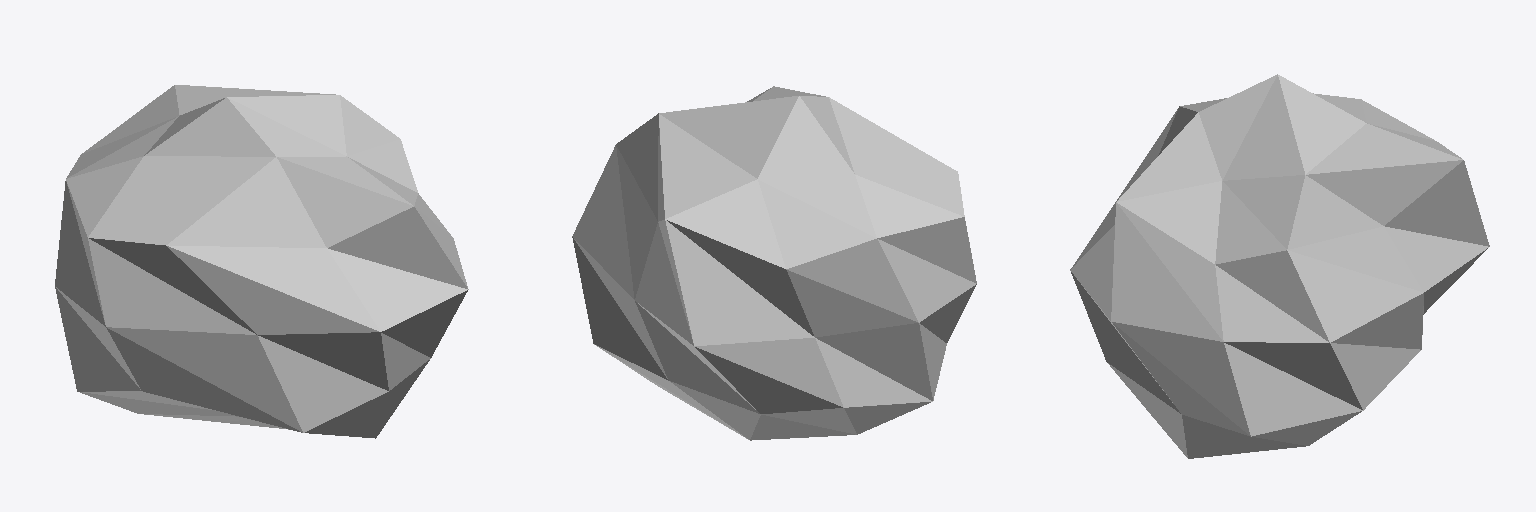
The model's file is rock1.obj.
3 renders of one model, left to right at view 1: azimuth 30°, elevation 25°; view 2: azimuth 150°, elevation 25°; view 3: azimuth 270°, elevation 25°, orthographic.
Visible parts, largest first — view 1: Icosphere; view 2: Icosphere; view 3: Icosphere.
Boxes of the visible parts, x1,y1,x2,y2 form: Icosphere: [55, 85, 468, 438]; Icosphere: [572, 86, 976, 440]; Icosphere: [1070, 74, 1489, 458].
Bounding box in the file's own units: 3.14 × 2.75 × 3.13.